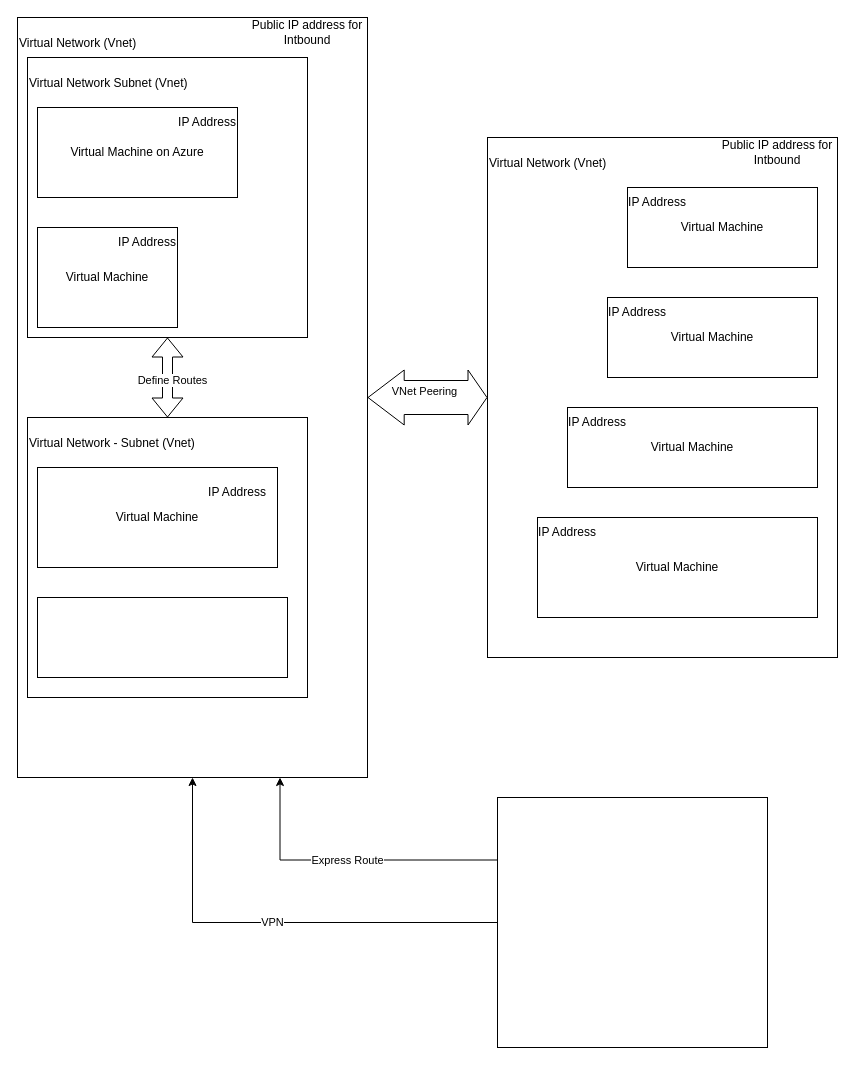
Some shapes in this 855 by 1065 pixel diagram are drawn without their labels. Here are the shapes that lost their labels. From the top down, the centre of each, then its label:
At (x=162, y=637): "Kubernete etc".
At (x=632, y=922): "Secure transmit".
